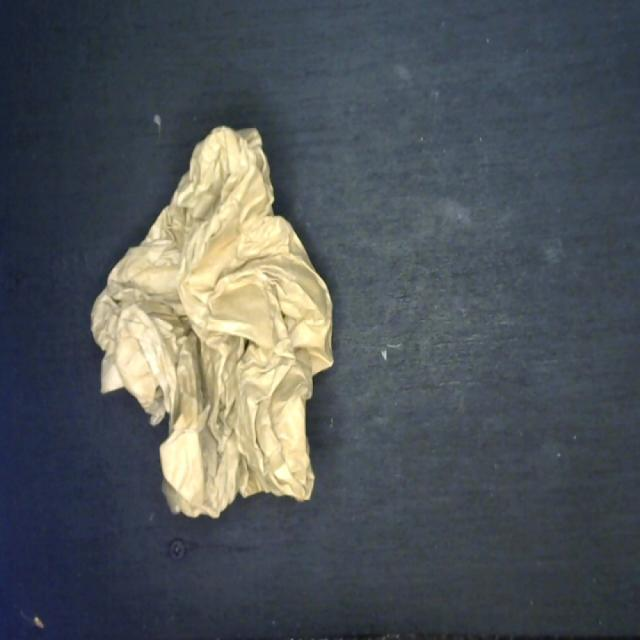biodegradable: (87, 120, 335, 522)
